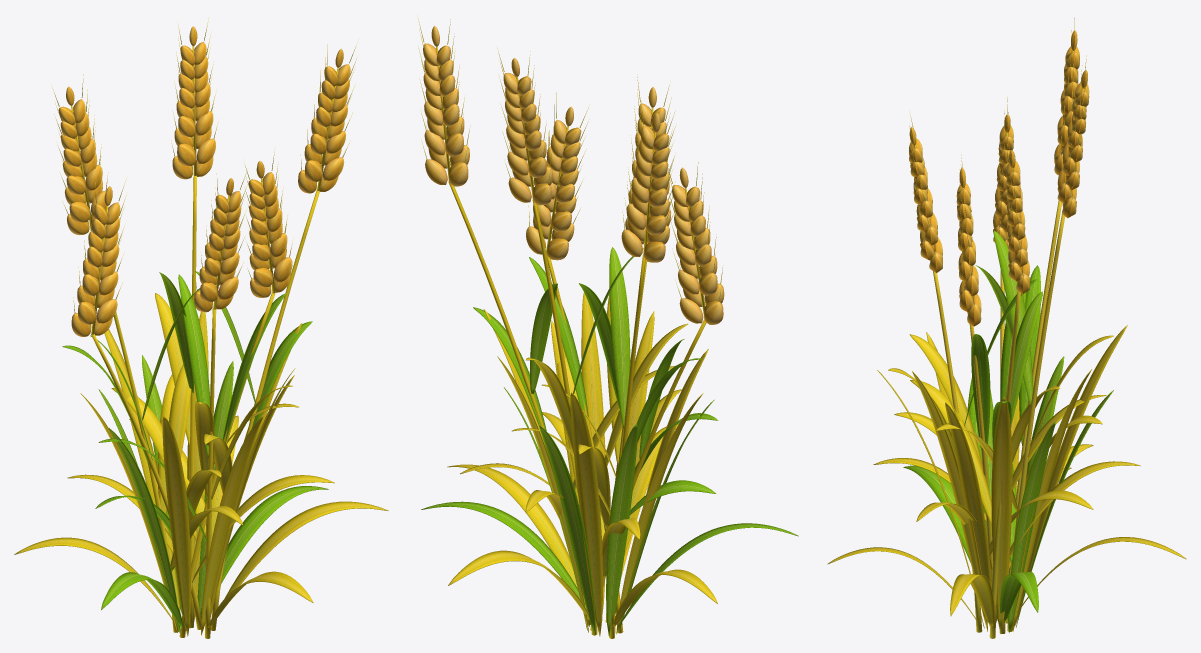
File: NP_Wheat_Ready.fbx
3 views of the same model, side by side, from view 1: azimuth 30°, elevation 25°; view 2: azimuth 150°, elevation 25°; view 3: azimuth 270°, elevation 25° (orthographic). The views are drawn at different scales.
Visible parts, largest first — view 1: NP_Wheat_Ready; view 2: NP_Wheat_Ready; view 3: NP_Wheat_Ready.
Boxes of the visible parts, <box> form: NP_Wheat_Ready: <box>14,18,388,638</box>; NP_Wheat_Ready: <box>418,18,798,638</box>; NP_Wheat_Ready: <box>827,18,1186,638</box>.
Size of the model in its own units: 82.51 by 143 by 79.03.
